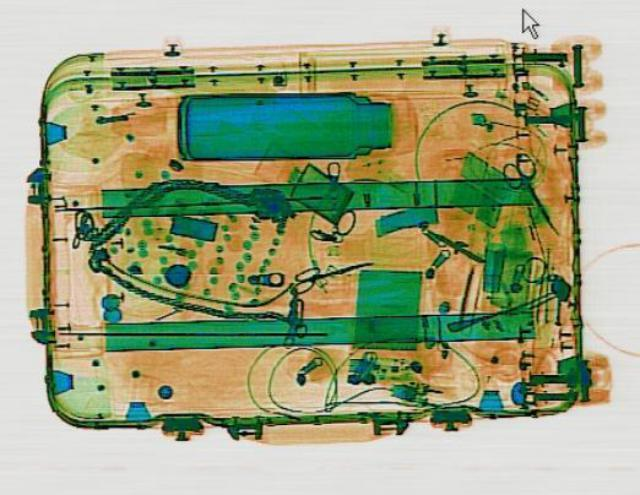Scissors: (490, 149, 572, 237), (283, 251, 377, 292)
